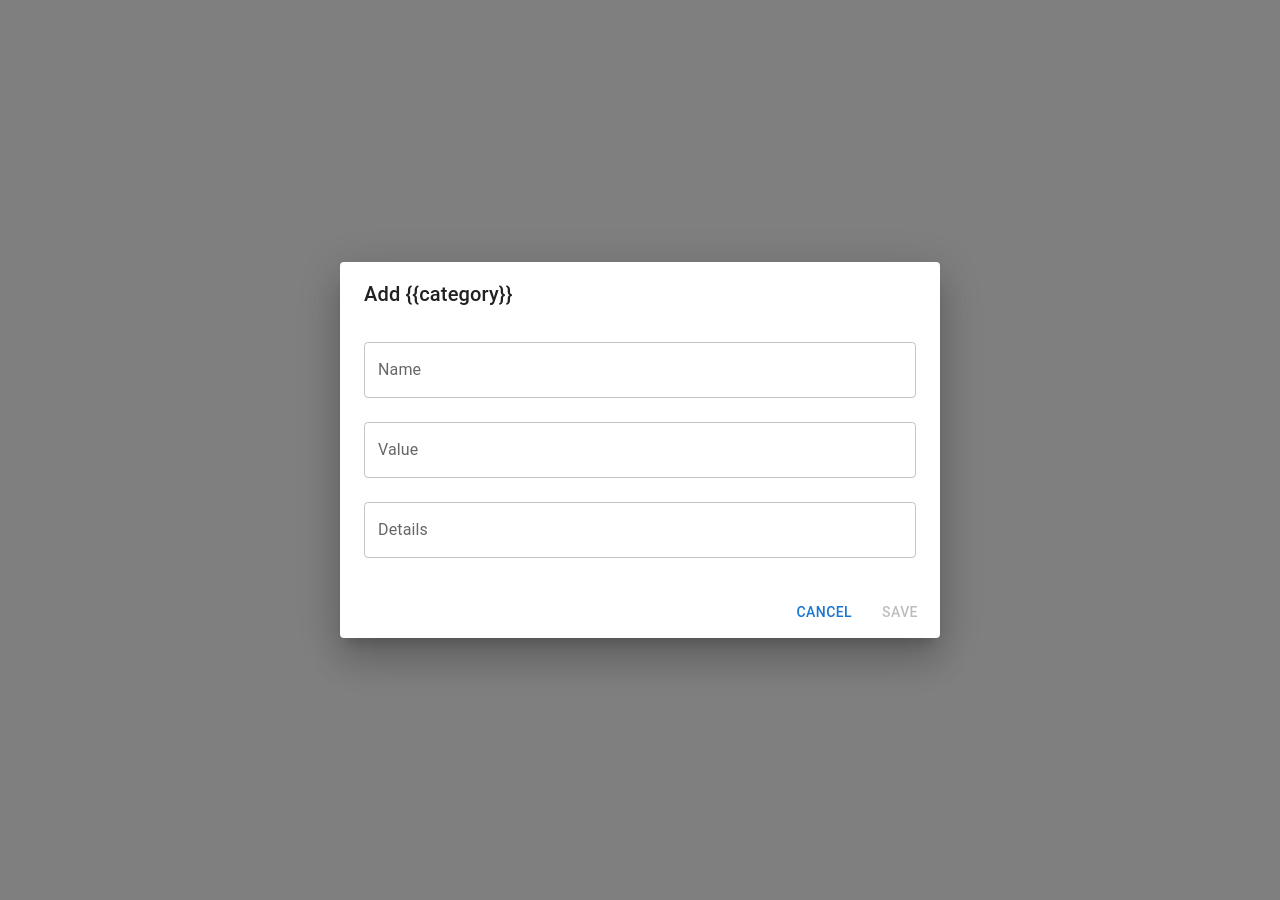
Test case: DialogBox Component › enables save button when fields are complete
Step 1. Type "Test Name" into the field labelled "Name" → (640, 370), box left=364, top=342, right=916, bottom=398
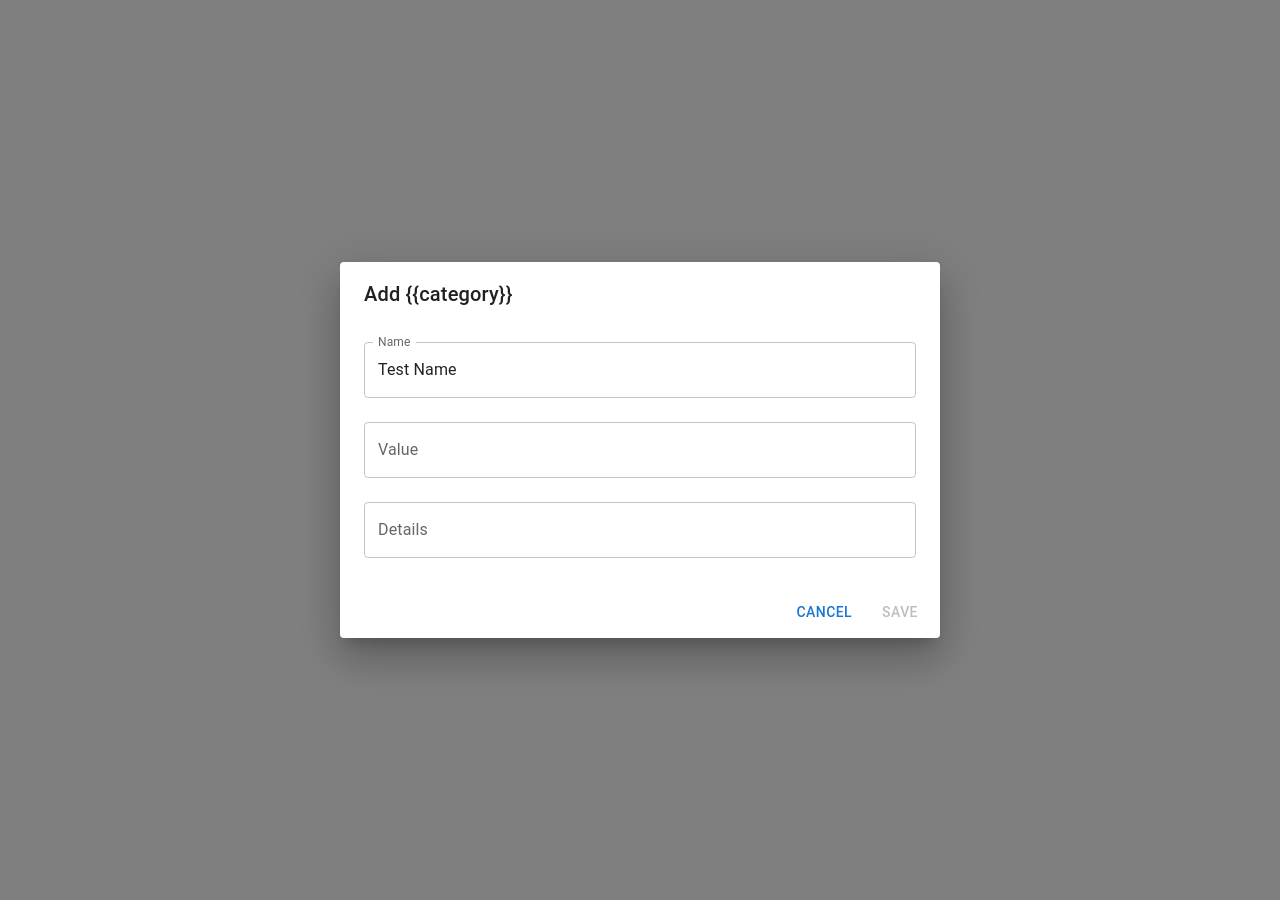
Step 2. Type "123" into the number field labelled "Value" → (640, 450), box left=364, top=422, right=916, bottom=478
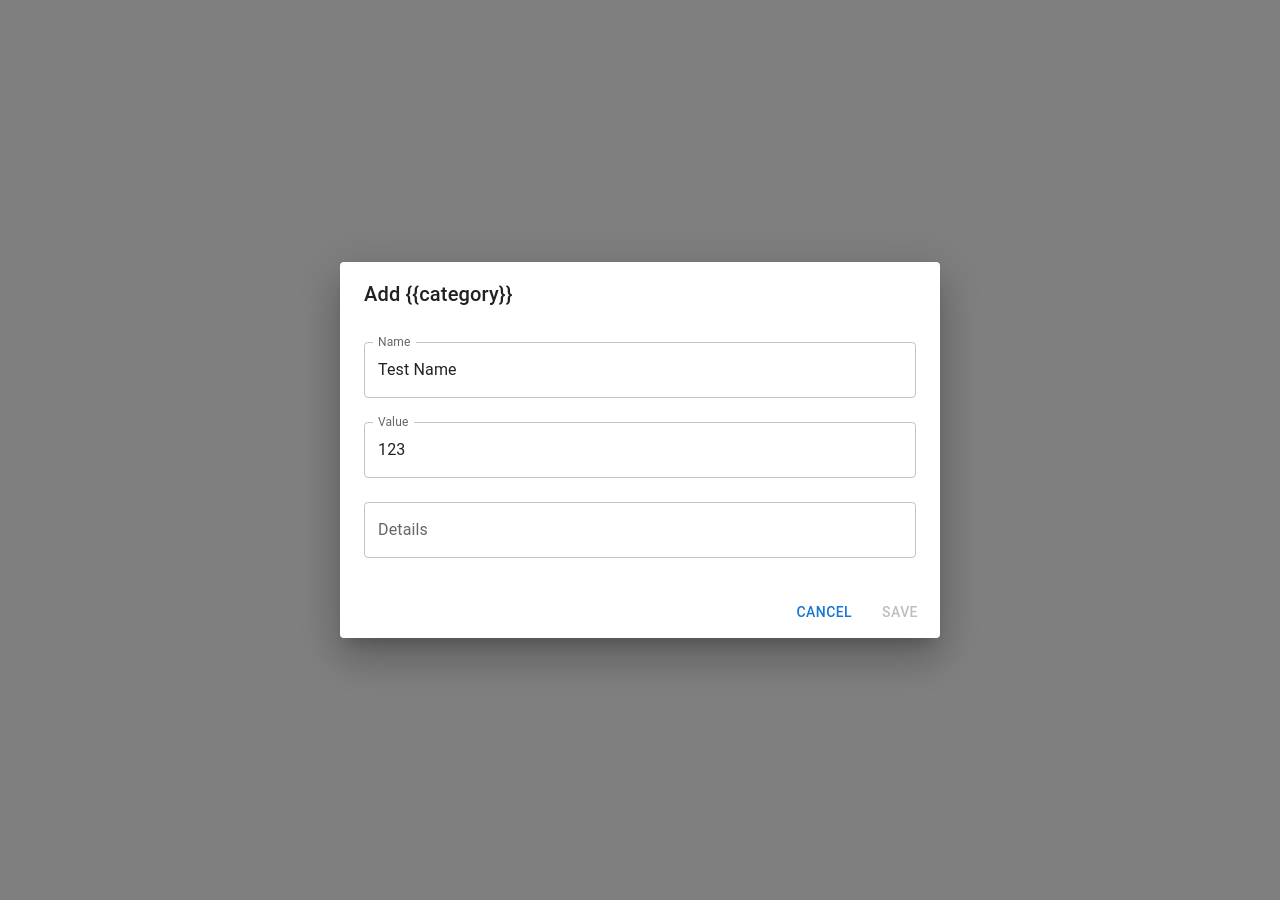
Step 3. Type "Details here" into the field labelled "Details" → (640, 530), box left=364, top=502, right=916, bottom=558
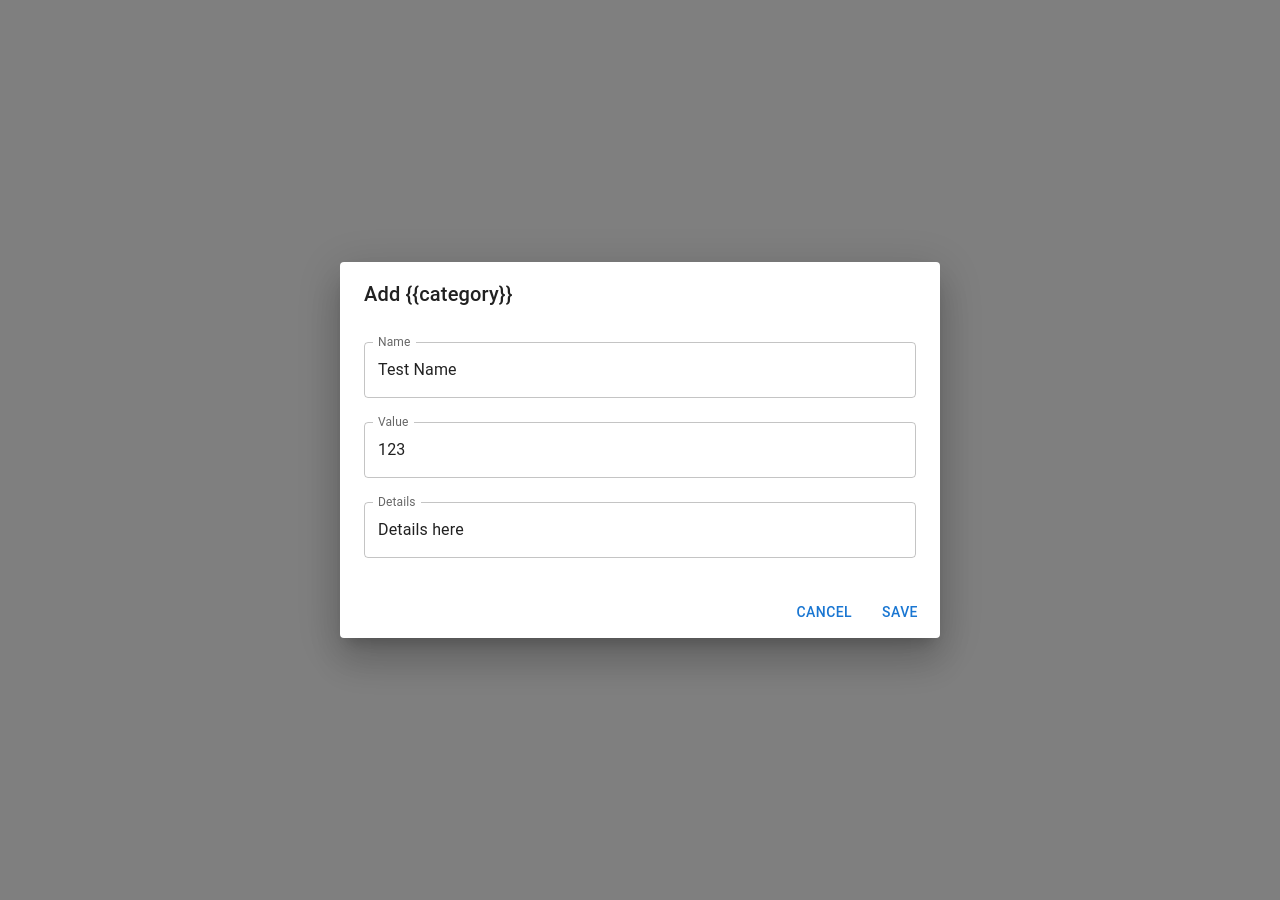
Result: the button "Save" is enabled at left=868, top=594, right=932, bottom=630
